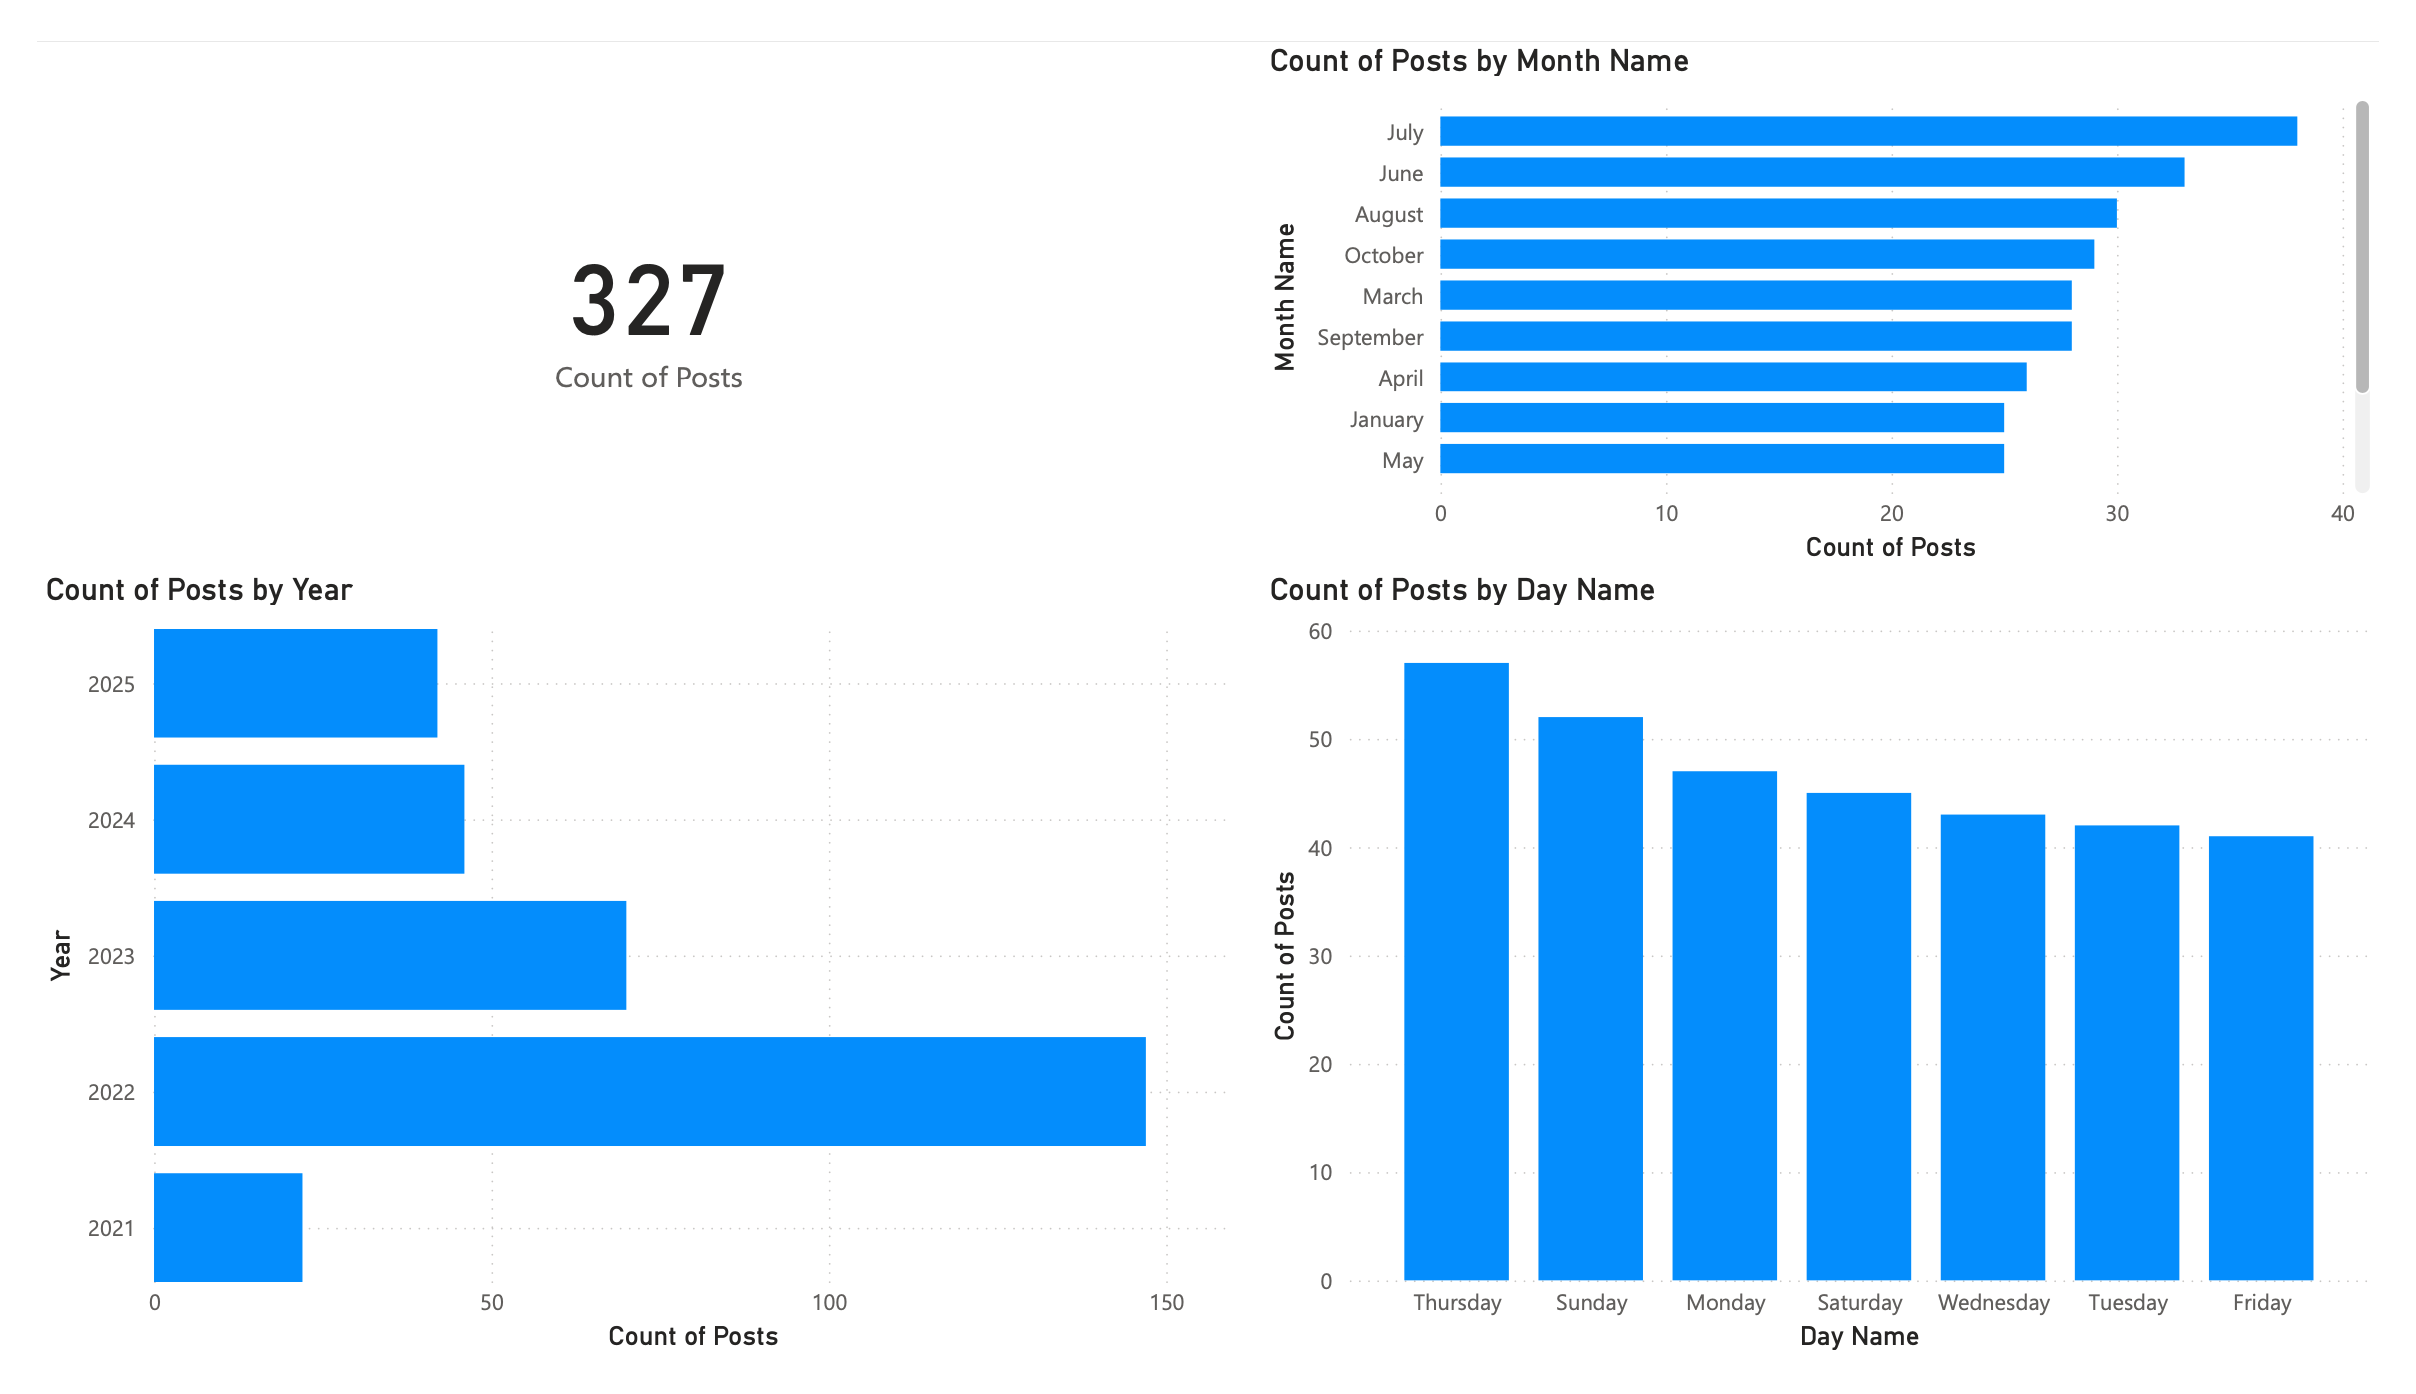

Layout of this report page (visuals, bound fields, positions):
{"tool":"powerbi","page":{"name":"posting behaviour","canvas":[1280,720],"ordinal":0},"visuals":[{"type":"card","fields":{"Values":["CountNonNull(result.messages.id)"]},"box":[0,0,669.1,289.4],"z":0},{"type":"barChart","fields":{"Category":["result.Year"],"Y":["CountNonNull(result.messages.id)"]},"box":[0,289.4,669.1,430.2],"z":1000},{"type":"barChart","fields":{"Category":["result.Month Name"],"Y":["CountNonNull(result.messages.id)"]},"box":[669.1,0,610.9,289.4],"z":2000},{"type":"columnChart","fields":{"Category":["result.Day Name"],"Y":["CountNonNull(result.messages.id)"]},"box":[669.1,289.4,610.9,430.2],"z":3000}]}

Visuals, with their boxes in screenshot pixels (x1, y1, x2, y2), scaled from the page's 1280x720 canvas onto the 2416x1394 screenshot:
card - CountNonNull(result.messages.id): (left=0, top=0, right=1263, bottom=560)
barChart - result.Year x CountNonNull(result.messages.id): (left=0, top=560, right=1263, bottom=1393)
barChart - result.Month Name x CountNonNull(result.messages.id): (left=1263, top=0, right=2415, bottom=560)
columnChart - result.Day Name x CountNonNull(result.messages.id): (left=1263, top=560, right=2415, bottom=1393)
